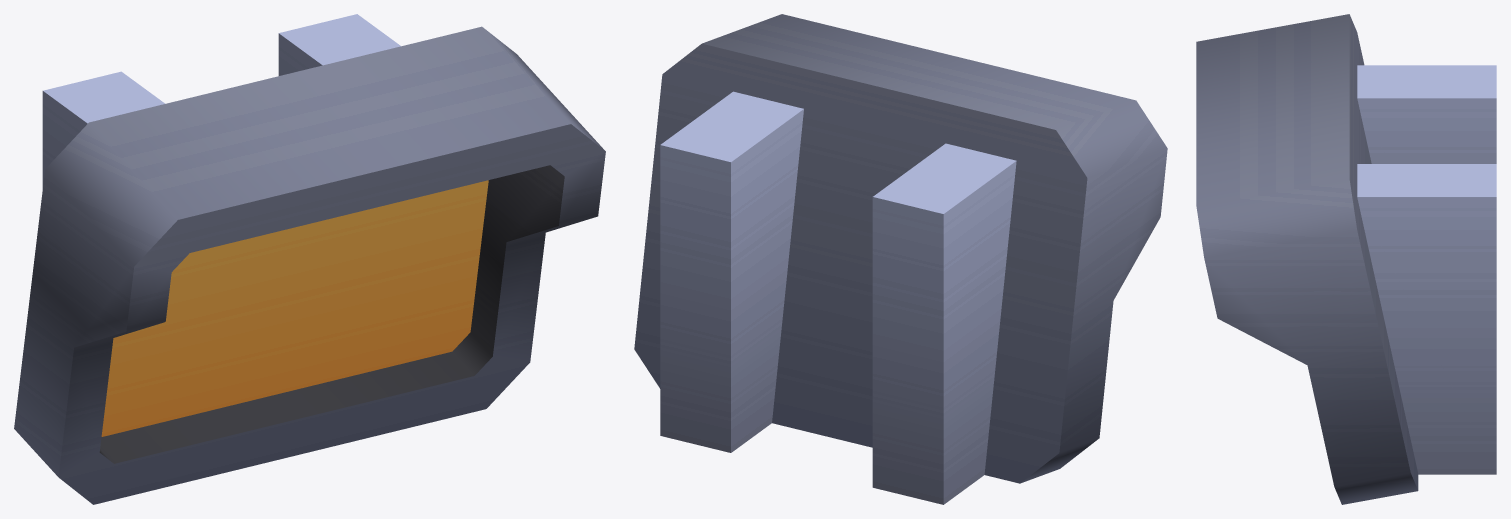
Rendered from display-wall-wide.glb.
The picture shows the model from 3 angles, left to right: view 1: azimuth 30°, elevation 25°; view 2: azimuth 150°, elevation 25°; view 3: azimuth 270°, elevation 25°; orthographic projection. The views are drawn at different scales.
Visible parts, largest first — view 1: display-wall-wide; view 2: display-wall-wide; view 3: display-wall-wide.
Boxes of the visible parts, box(x1,y1,x2,y2) form: display-wall-wide: box(14, 14, 605, 504); display-wall-wide: box(634, 14, 1167, 504); display-wall-wide: box(1196, 14, 1496, 504).
Bounding box in the file's own units: 0.6 × 0.4609 × 0.3844.
1 material, 1 textured.
